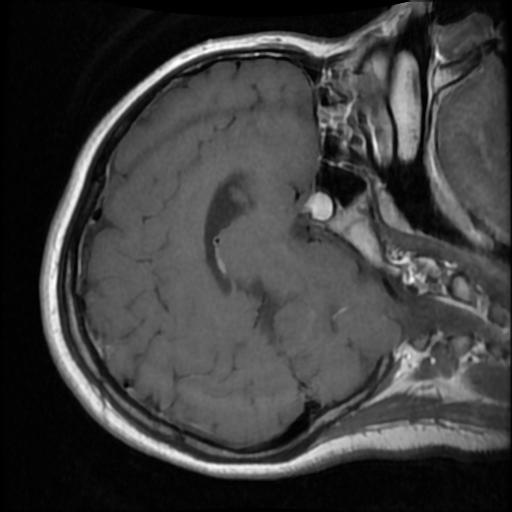pituitary tumour: (305, 191, 333, 220)
